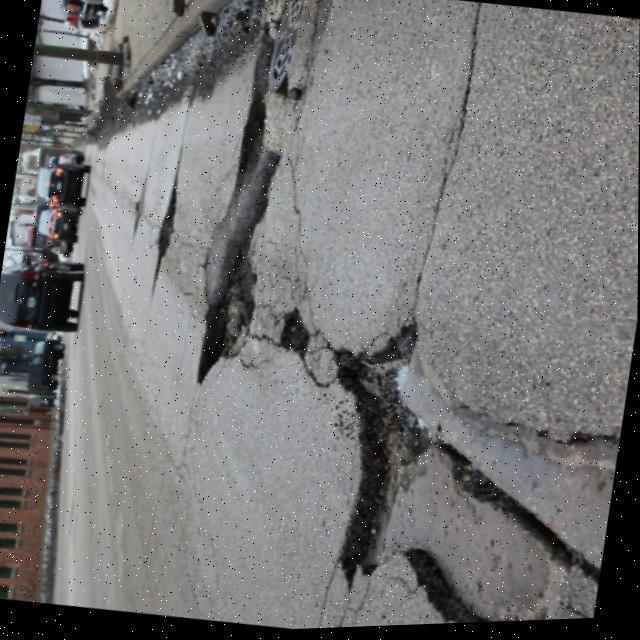Pothole: (333, 322, 621, 623), (196, 22, 283, 384), (152, 155, 181, 300), (278, 307, 311, 358), (132, 182, 147, 239)
